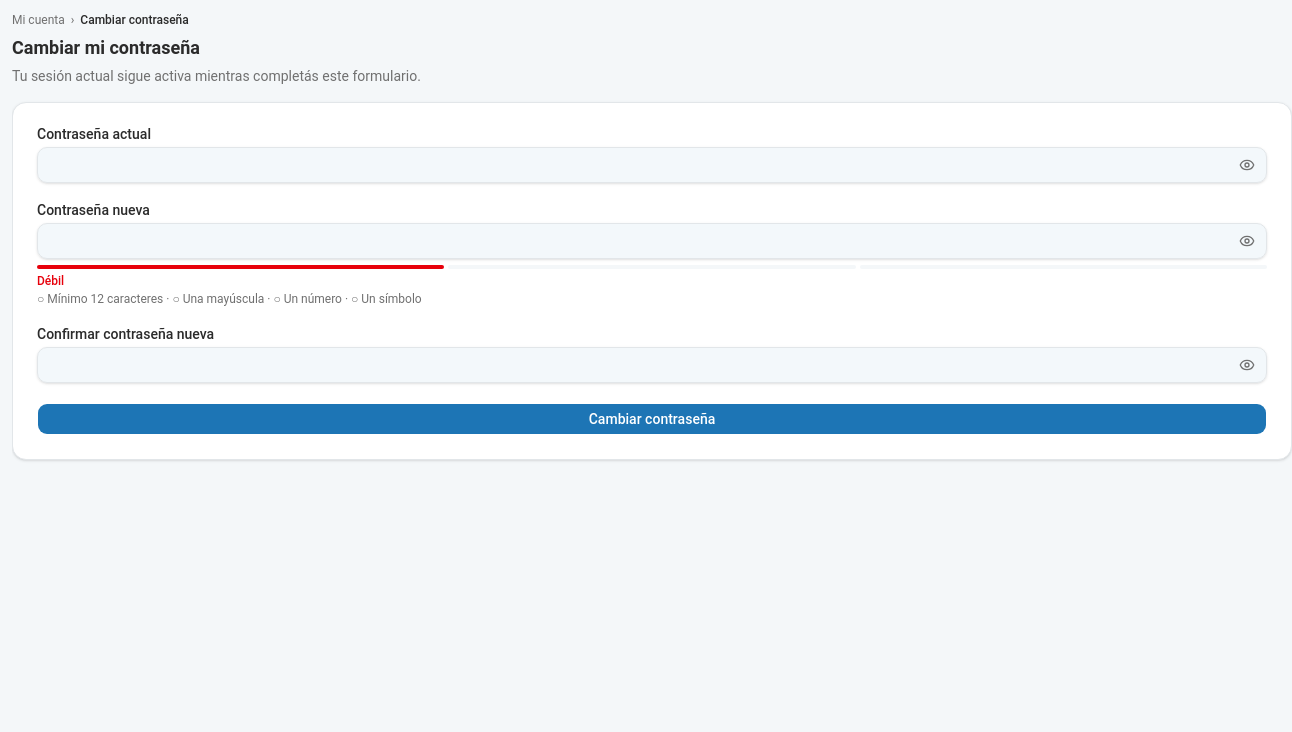
CambiarPassword › muestra los intentos restantes cuando la contraseña actual es incorrecta y limpia los campos
In the password field labelled "Contraseña actual": (652, 165) [37,147,1267,183], type "mala"
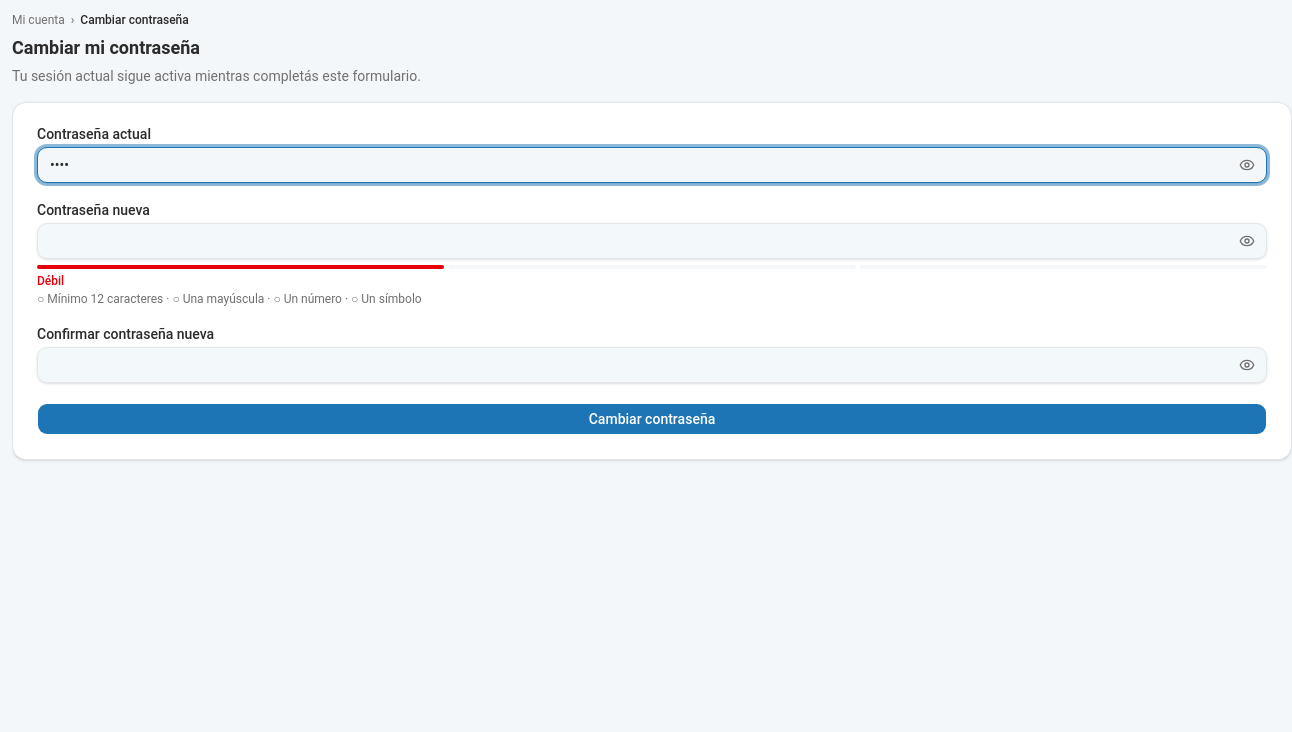
In the password field labelled "Contraseña nueva": (652, 241) [37,223,1267,259], type "nuevaClave123"
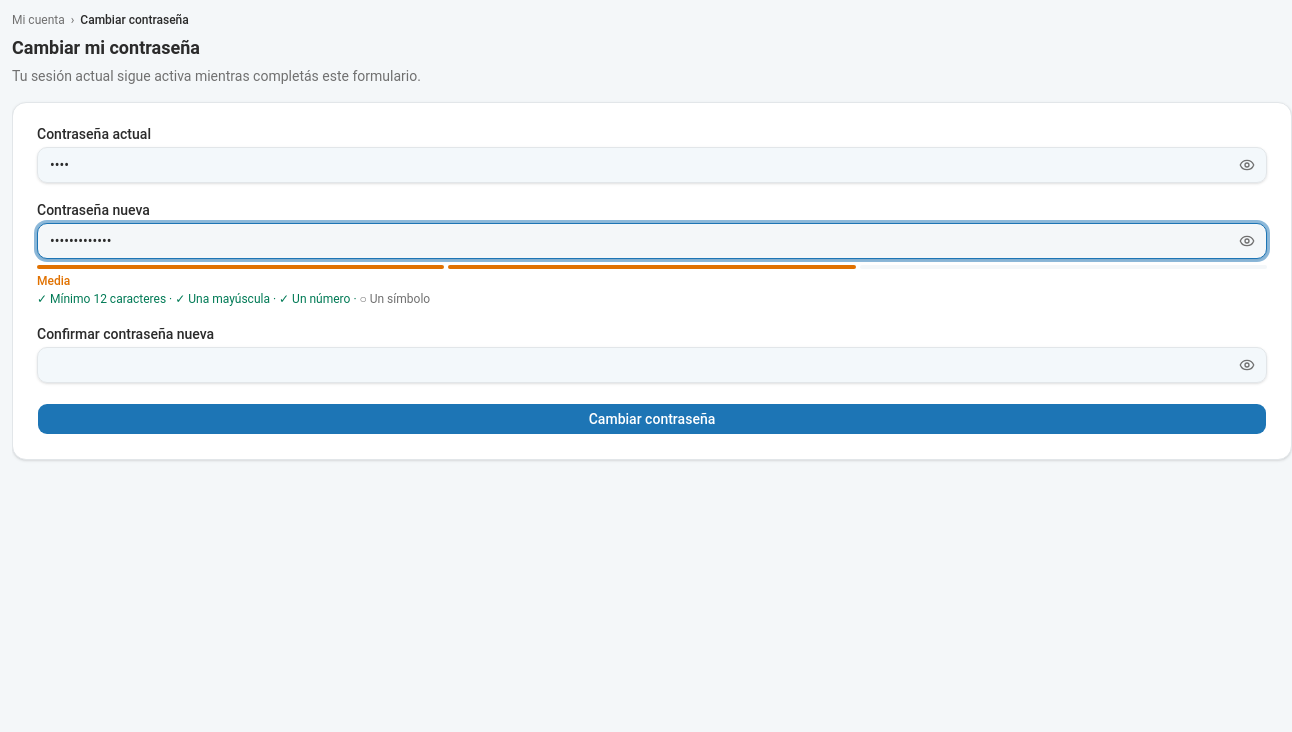
In the password field labelled "Confirmar contraseña nueva": (652, 365) [37,347,1267,383], type "nuevaClave123"
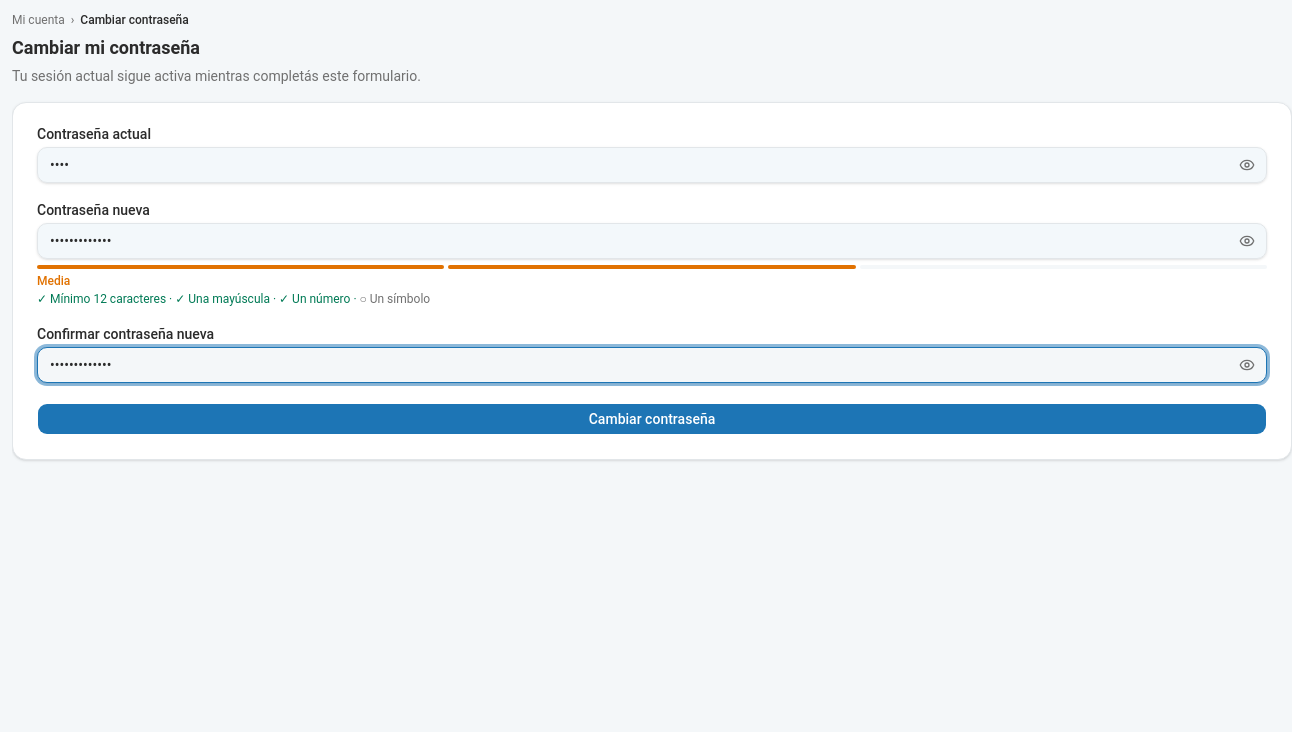
Click the button "Cambiar contraseña": (652, 419) [37,403,1267,435]
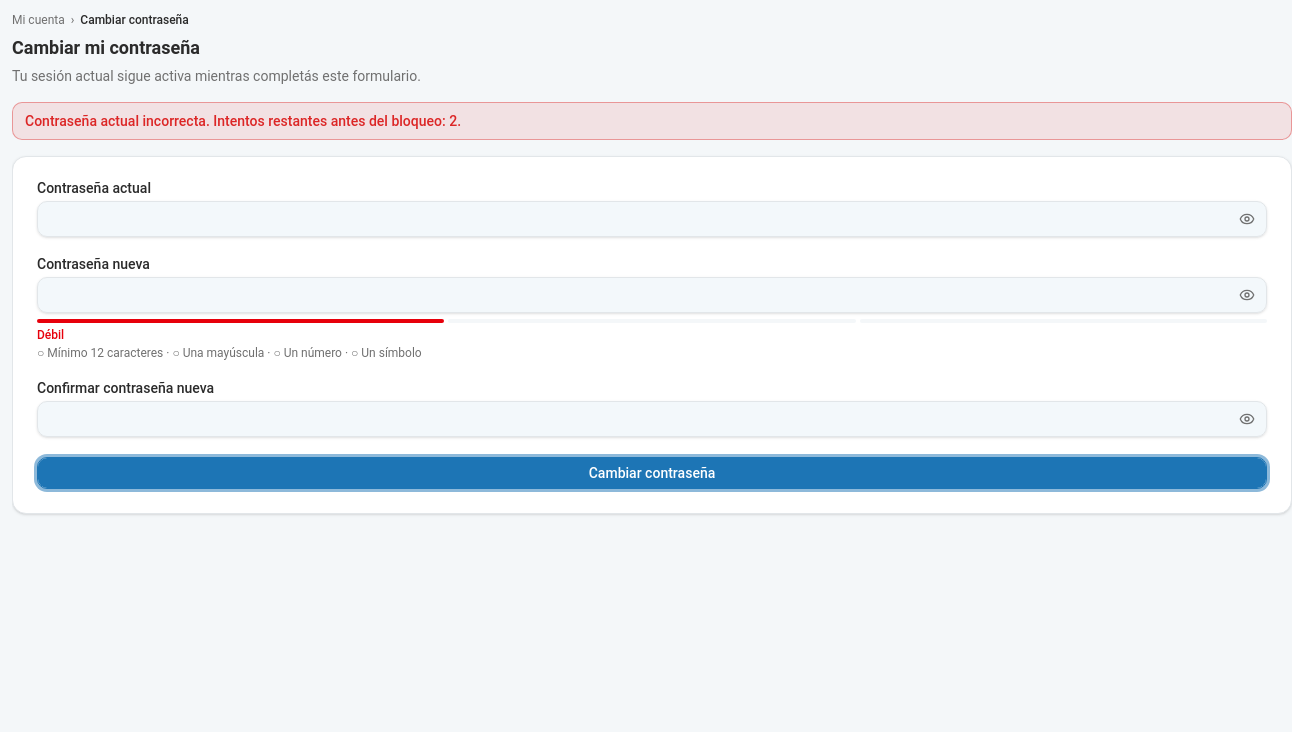
Result: the message reads "Contraseña actual incorrecta. Intentos restantes antes del bloqueo: 2." at [25,113,461,129]
Result: the password field labelled "Contraseña actual" is empty at [37,201,1267,237]
Result: the password field labelled "Contraseña nueva" is empty at [37,277,1267,313]
